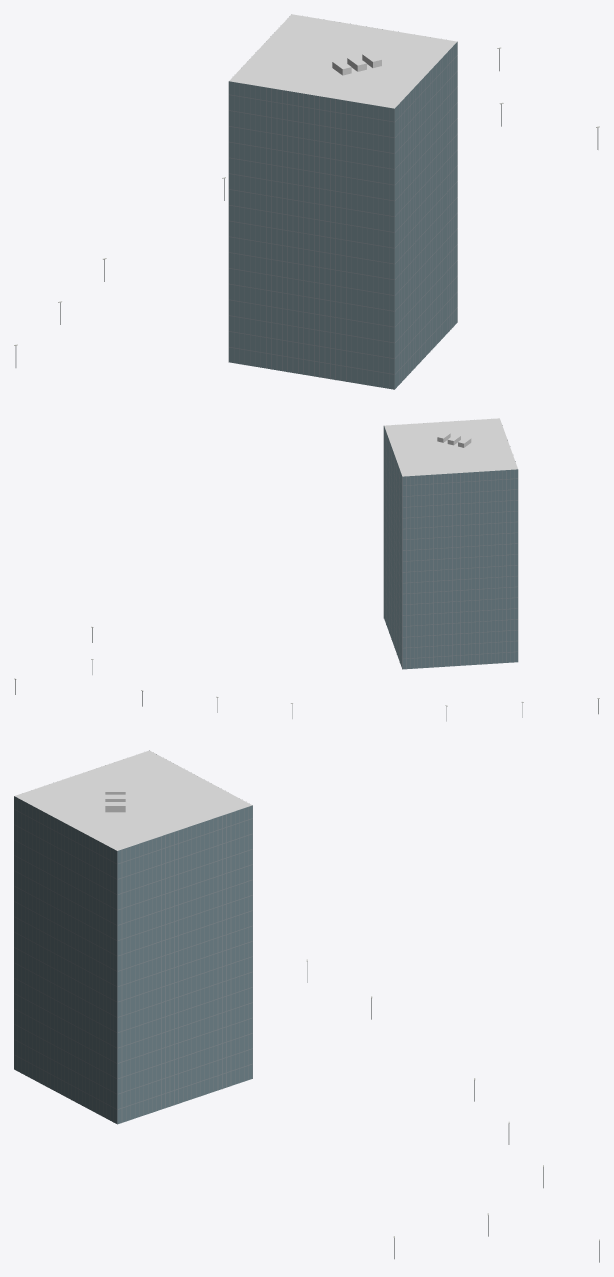
3 renders of one model, top to bottom at view 1: azimuth 30°, elevation 25°; view 2: azimuth 150°, elevation 25°; view 3: azimuth 270°, elevation 25°, orthographic. The views are drawn at different scales.
Parts seen in each view (by area): view 1: 1_1_v02 中性蓝灰幕墙, 1_1_v02 铝合金幕墙框, 1_1_v02 深灰屋面; view 2: 1_1_v02 中性蓝灰幕墙, 1_1_v02 铝合金幕墙框, 1_1_v02 深灰屋面; view 3: 1_1_v02 中性蓝灰幕墙, 1_1_v02 铝合金幕墙框, 1_1_v02 深灰屋面.
Part boxes in pixels (left/top/right/bottom): 1_1_v02 中性蓝灰幕墙: left=229, top=42, right=457, bottom=389; 1_1_v02 铝合金幕墙框: left=228, top=16, right=457, bottom=389; 1_1_v02 深灰屋面: left=229, top=14, right=456, bottom=108; 1_1_v02 中性蓝灰幕墙: left=384, top=426, right=517, bottom=669; 1_1_v02 铝合金幕墙框: left=383, top=425, right=518, bottom=669; 1_1_v02 深灰屋面: left=384, top=418, right=517, bottom=476; 1_1_v02 中性蓝灰幕墙: left=14, top=796, right=252, bottom=1124; 1_1_v02 铝合金幕墙框: left=14, top=750, right=252, bottom=1124; 1_1_v02 深灰屋面: left=14, top=750, right=252, bottom=850.
Bounding box in the file's own units: 222 × 91.28 × 173.
